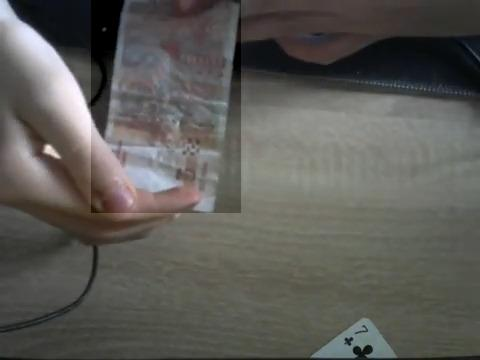5leva: (91, 0, 241, 213)
